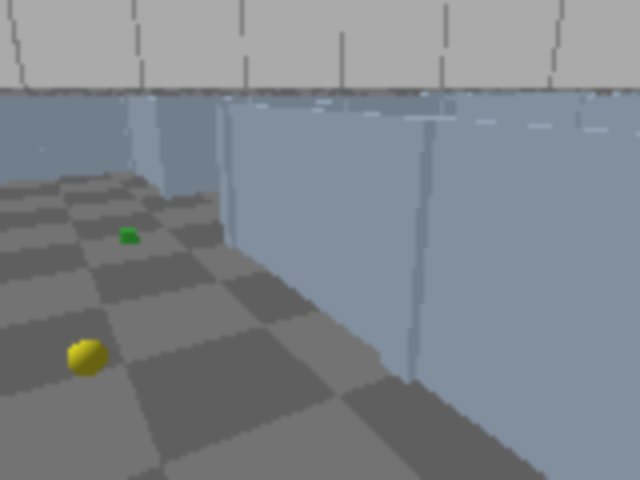puck: (58, 329, 116, 388), (119, 228, 139, 245)
